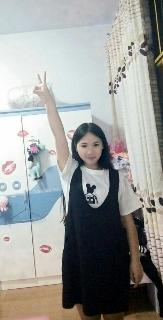short sleeve top: (56, 151, 143, 242)
vest: (61, 162, 131, 317)
